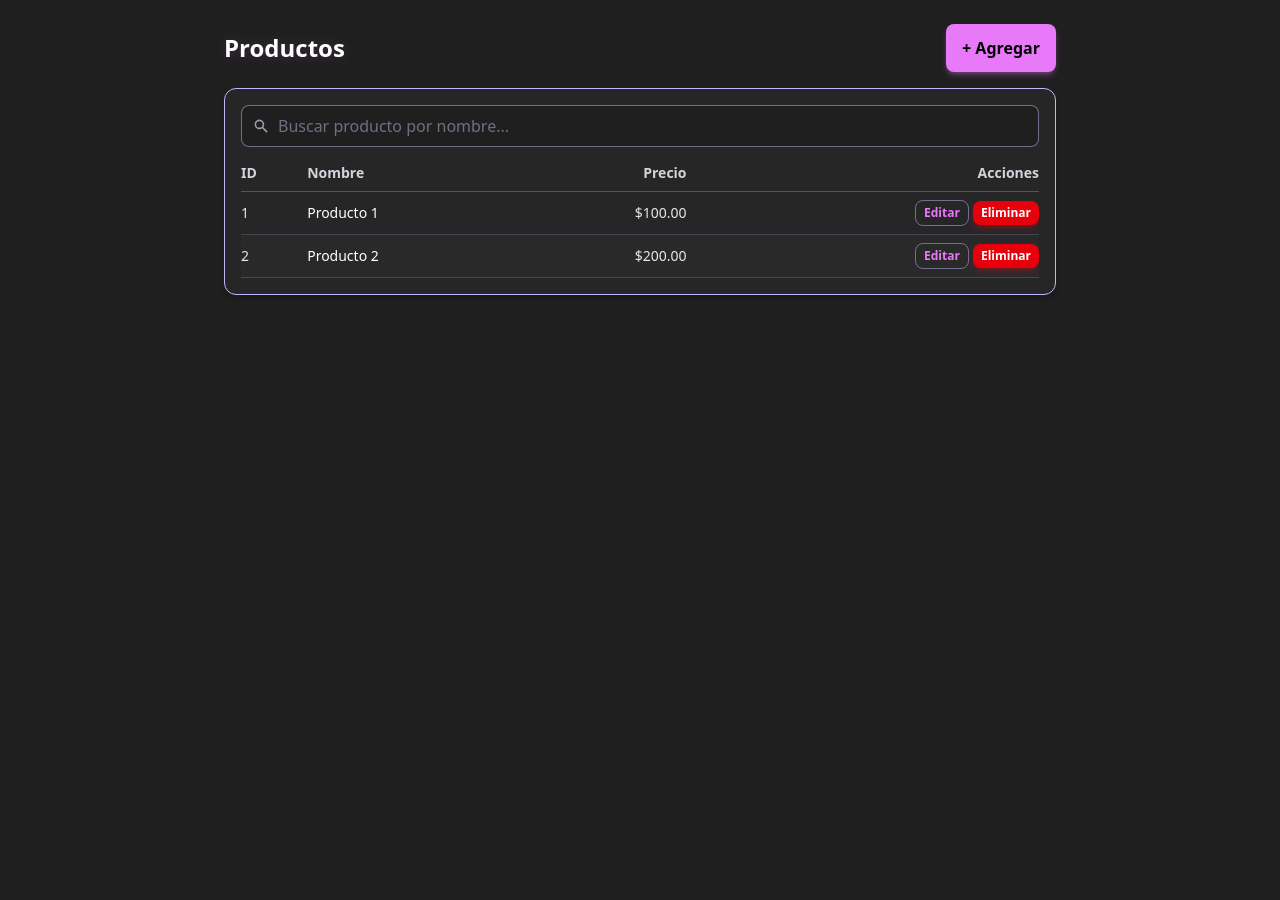
Productos › opens delete confirmation modal
This screenshot has width=1280, height=900.
Click the button "Eliminar" in the row of "Producto 1" at [1006, 213], box [973,201,1039,225]
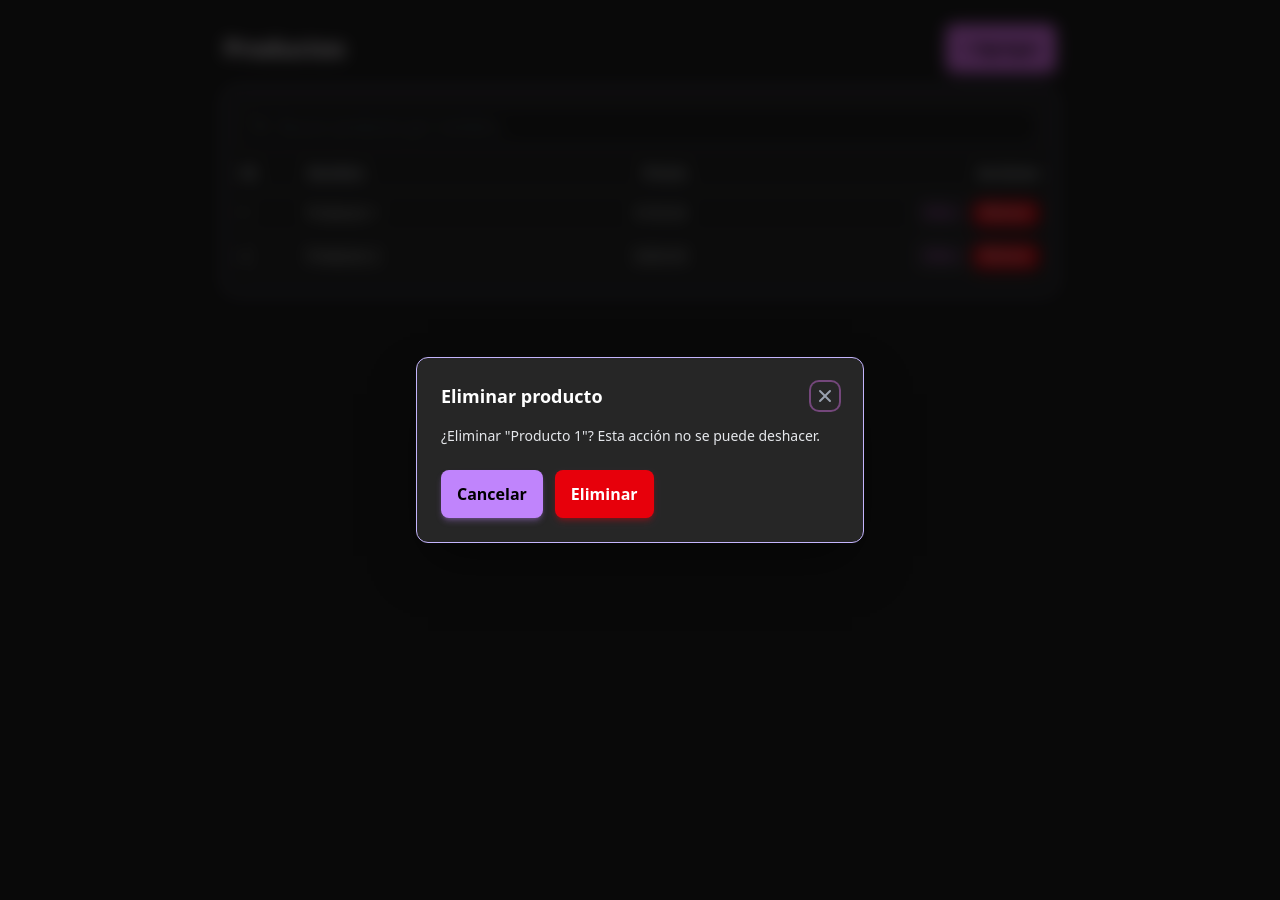
Result: the text "¿Eliminar \"Producto 1\"? Esta acción no se puede deshacer." is shown at [441,426,839,446]
